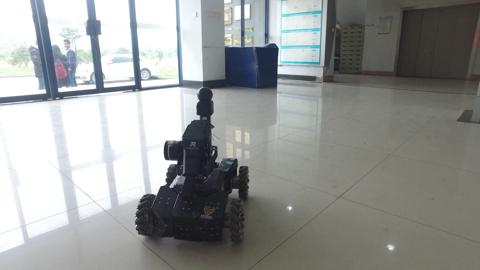chariot: (127, 80, 255, 246)
